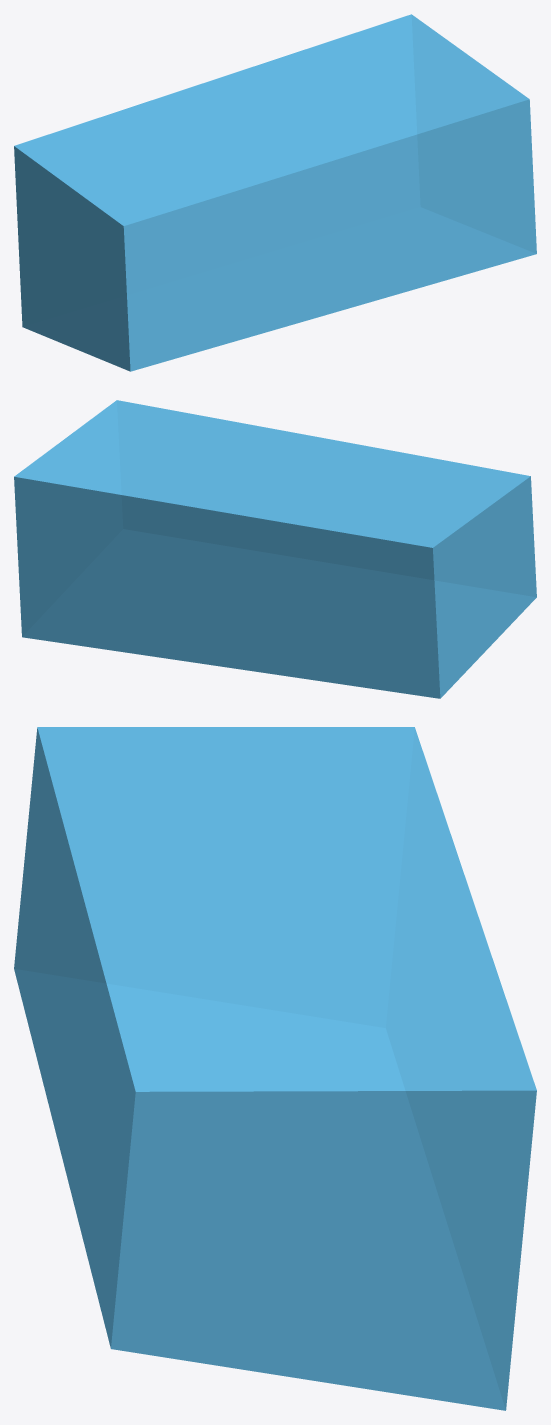
The model's file is Event_421556567_HErechit_62.fbx.
3 views of the same model, one above another, from view 1: azimuth 30°, elevation 25°; view 2: azimuth 150°, elevation 25°; view 3: azimuth 270°, elevation 25° (orthographic). The views are drawn at different scales.
Visible parts, largest first — view 1: Model; view 2: Model; view 3: Model.
Boxes of the visible parts, x1,y1,x2,y2 form: Model: (14,14,536,371); Model: (14,400,536,698); Model: (14,727,536,1410).
Size of the model in its own units: 0.6815 by 0.279 by 0.4129.
